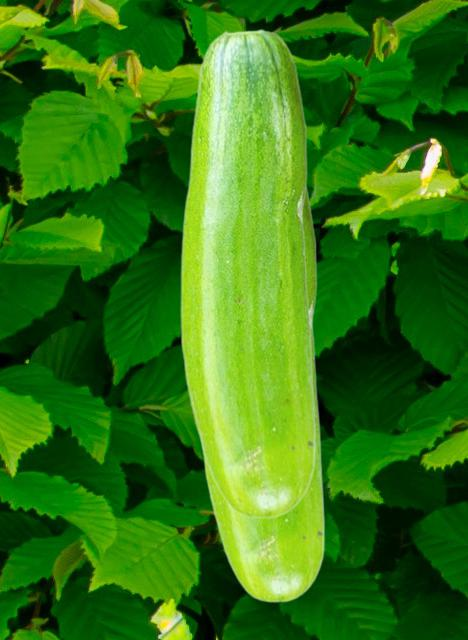cucumber: (180, 28, 315, 518), (200, 185, 324, 602)
